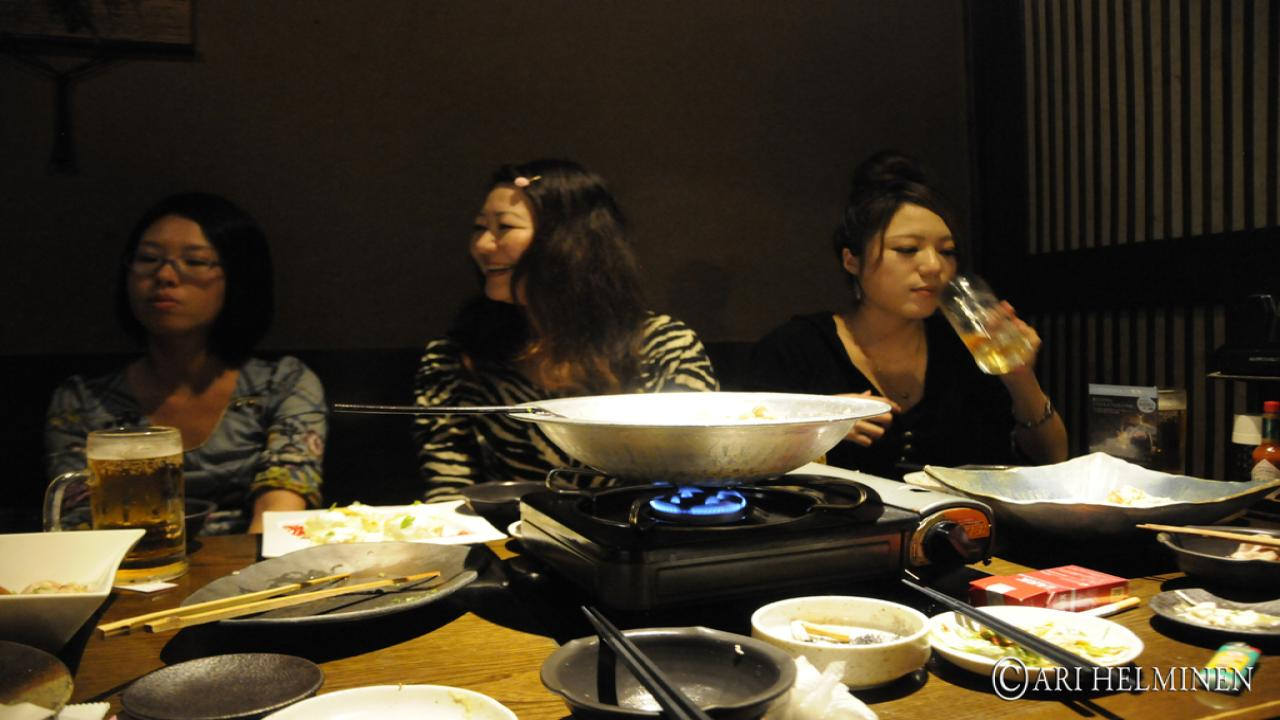bottle_cap: (1266, 401, 1280, 412)
chopstick: (902, 581, 1086, 665), (101, 575, 349, 636), (583, 606, 702, 720), (1140, 523, 1278, 546)
